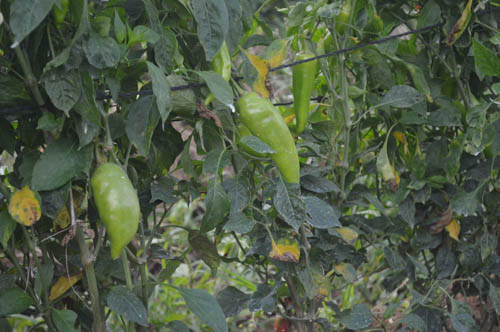ChiliPepper: (238, 92, 300, 185), (92, 164, 141, 257), (289, 50, 315, 131)
